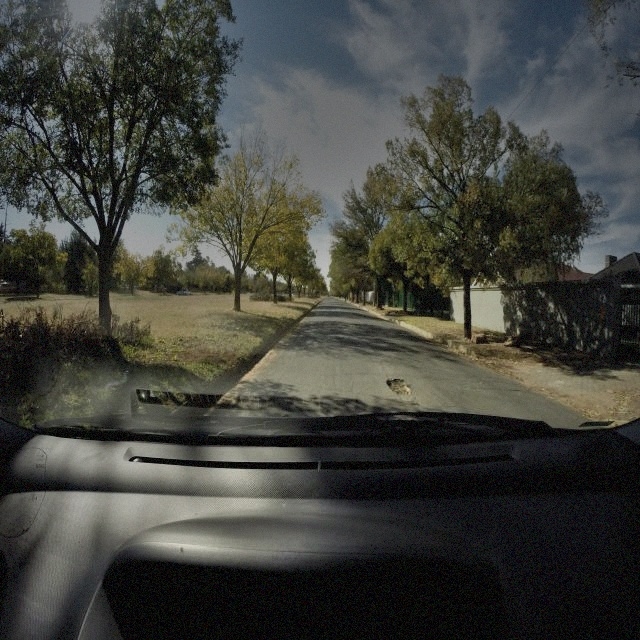pothole: (385, 375, 410, 395)
